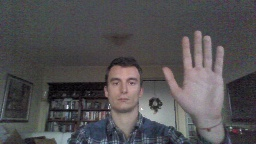Mano_aperta: (160, 28, 226, 122)
